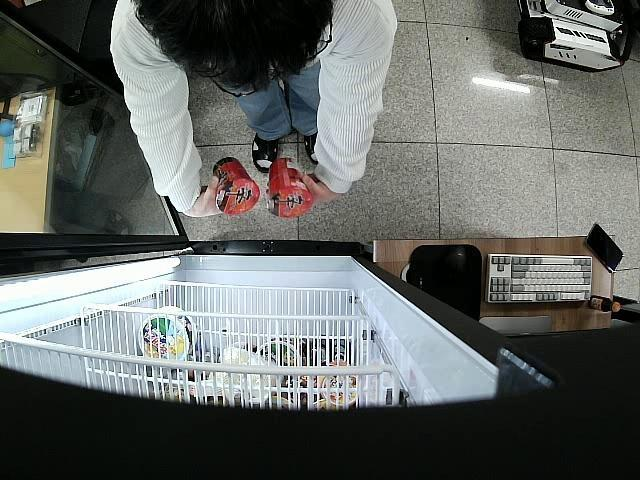02_shinRamen_S: (266, 156, 314, 218), (212, 158, 261, 216)
